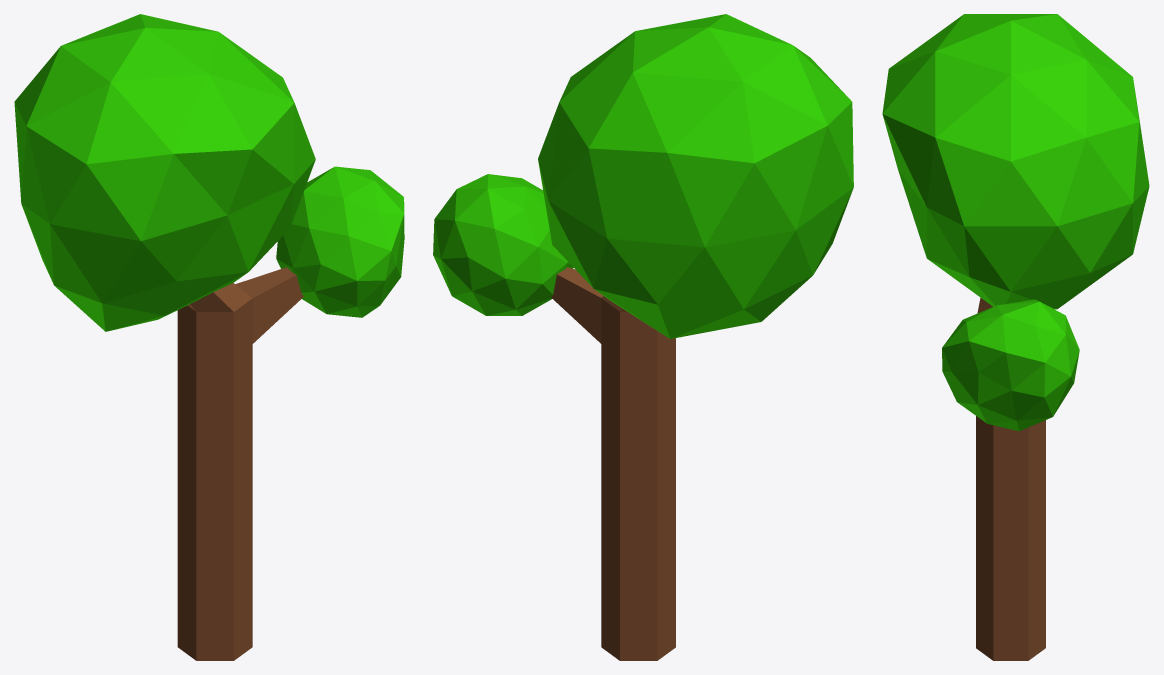
The model's file is tree2.fbx.
3 views of the same model, side by side, from view 1: azimuth 30°, elevation 25°; view 2: azimuth 150°, elevation 25°; view 3: azimuth 270°, elevation 25° (orthographic). The views are drawn at different scales.
Visible parts, largest first — view 1: leaf, tree2, leaf1; view 2: leaf, tree2, leaf1; view 3: leaf, tree2, leaf1.
Boxes of the visible parts, left/top/right/bottom form: leaf: left=14, top=14, right=315, bottom=331; tree2: left=177, top=267, right=303, bottom=660; leaf1: left=276, top=166, right=404, bottom=317; leaf: left=538, top=14, right=853, bottom=338; tree2: left=551, top=267, right=675, bottom=660; leaf1: left=433, top=174, right=573, bottom=315; leaf: left=882, top=14, right=1149, bottom=309; tree2: left=976, top=297, right=1045, bottom=660; leaf1: left=942, top=299, right=1079, bottom=431.
Size of the model in its own units: 3.7 by 5.96 by 2.42.
